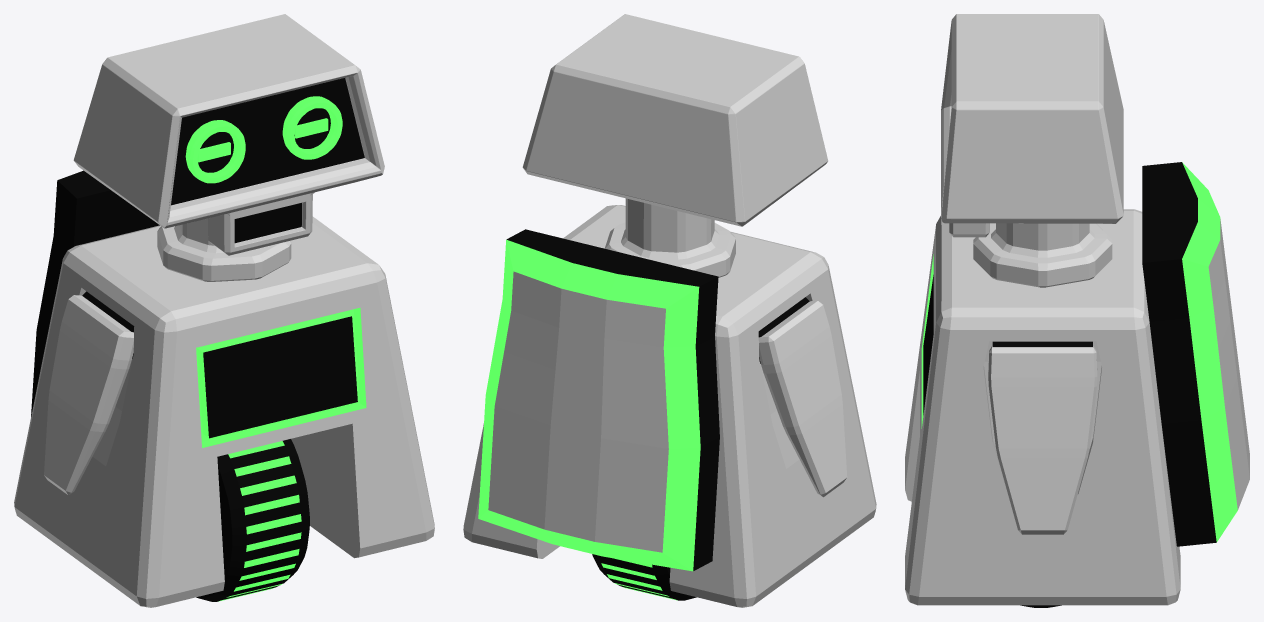
The model's file is character.fbx.
3 views of the same model, side by side, from view 1: azimuth 30°, elevation 25°; view 2: azimuth 150°, elevation 25°; view 3: azimuth 270°, elevation 25° (orthographic). The views are drawn at different scales.
Visible parts, largest first — view 1: Plane.001, Circle; view 2: Plane.001, Circle; view 3: Plane.001.
Part boxes in pixels (<box>): Plane.001: <box>14,14,434,607</box>; Circle: <box>196,439,309,601</box>; Plane.001: <box>463,14,876,607</box>; Circle: <box>592,554,696,600</box>; Plane.001: <box>905,14,1249,605</box>.
Bounding box in the file's own units: 146 × 221 × 129.
